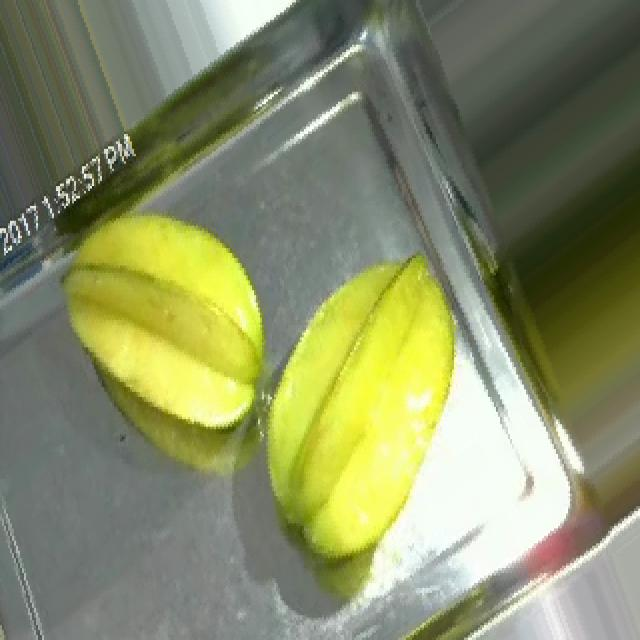fruit: (220, 231, 522, 593), (34, 164, 320, 471), (0, 0, 172, 248)
